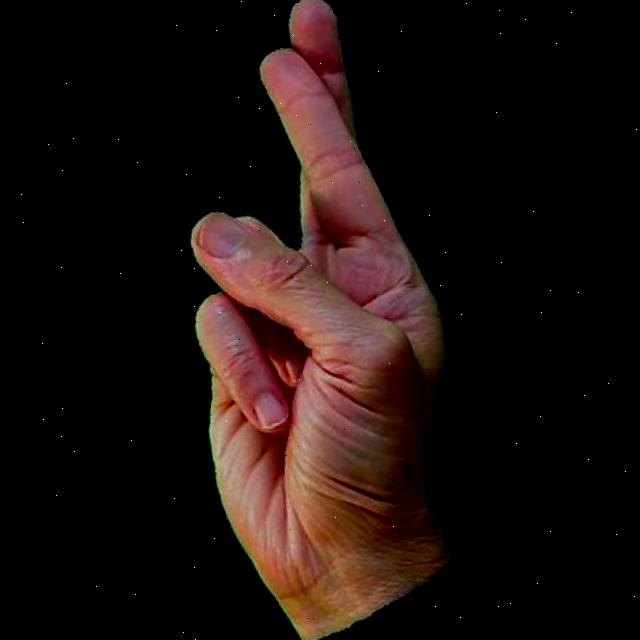r: (133, 0, 502, 640)
